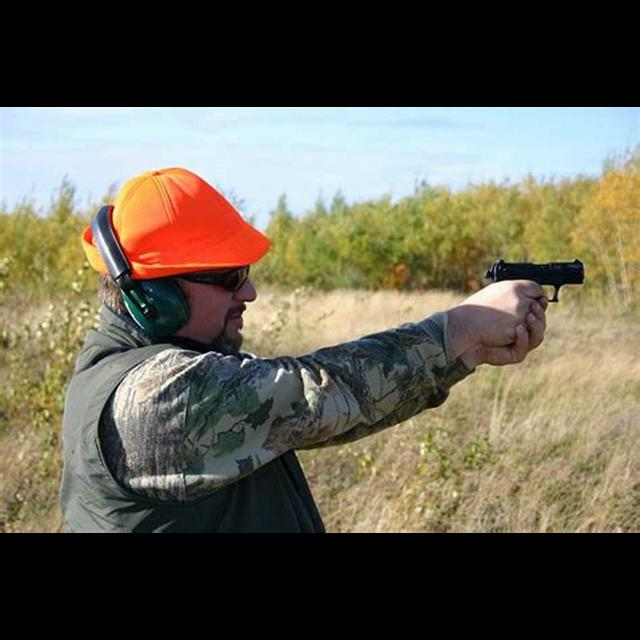handgun: (482, 254, 588, 304)
